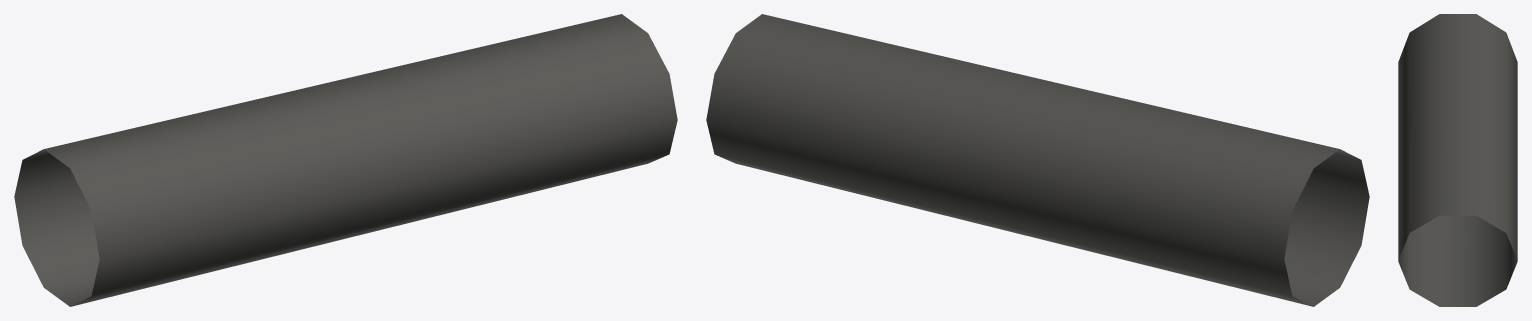
File: SM_StraightPipe.fbx
3 renders of one model, left to right at view 1: azimuth 30°, elevation 25°; view 2: azimuth 150°, elevation 25°; view 3: azimuth 270°, elevation 25°, orthographic. The views are drawn at different scales.
Visible parts, largest first — view 1: StraightPipe; view 2: StraightPipe; view 3: StraightPipe.
Boxes of the visible parts, x1=… form: StraightPipe: x1=14, y1=14, x2=677, y2=306; StraightPipe: x1=706, y1=14, x2=1369, y2=306; StraightPipe: x1=1398, y1=14, x2=1517, y2=306.
Bounding box in the file's own units: 105 × 24.03 × 26.84.
